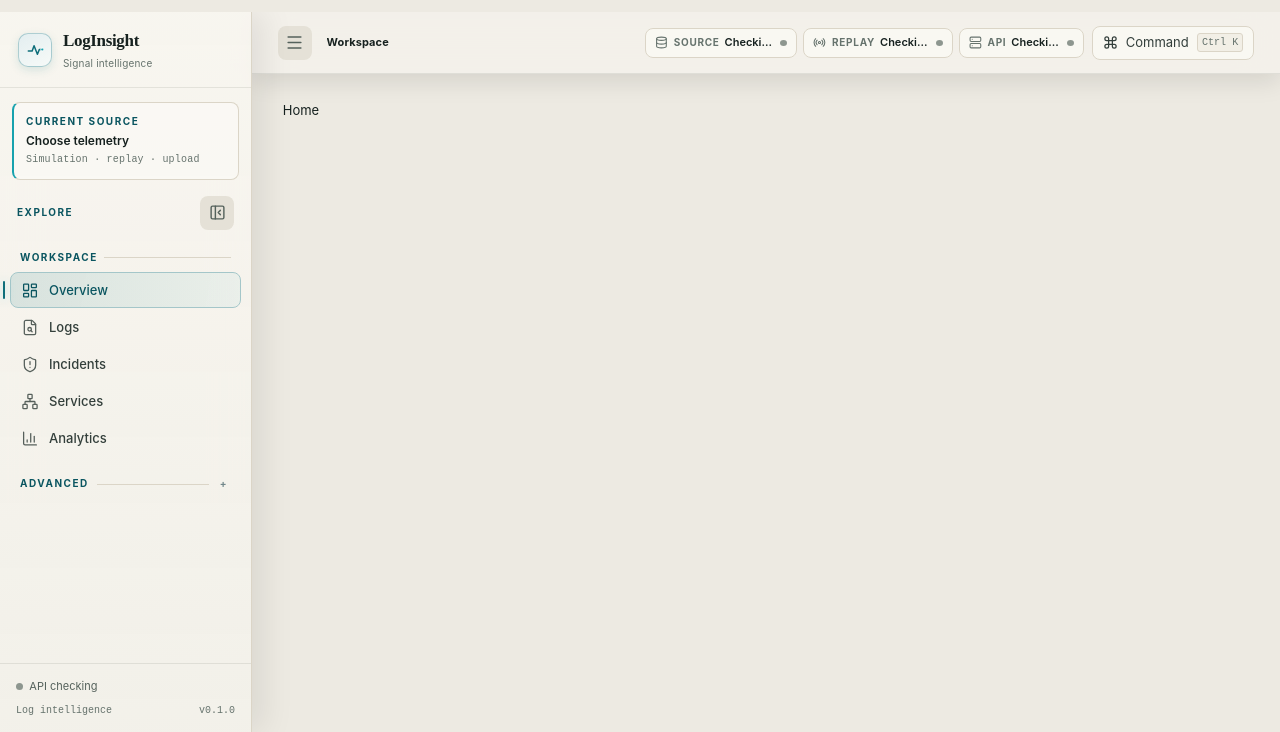
Test: application shell › keeps the primary workflow compact and specialist routes under Advanced
Expected: the link "Overview" is shown, [10,272,241,308]
Expected: the link "Logs" is shown, [21,319,79,336]
Click the button "Advanced +" at (126, 483), box [10,468,241,498]
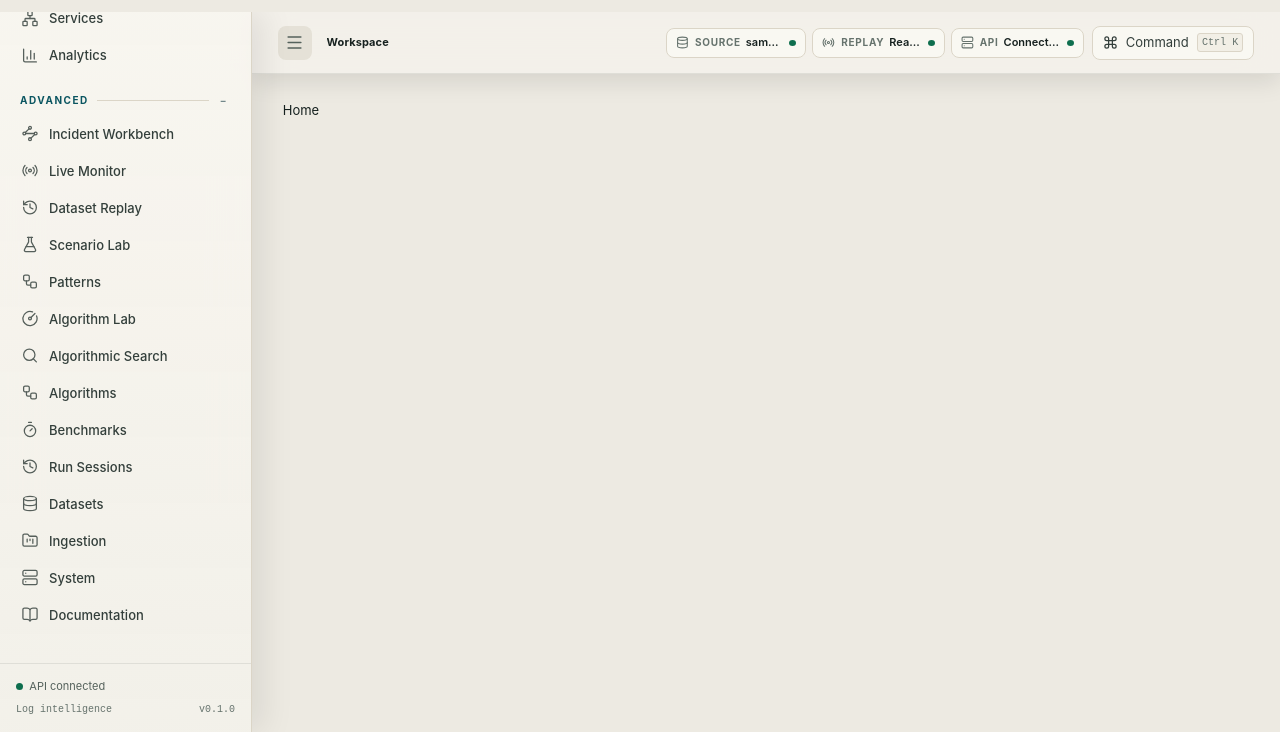
Now the link "Incident Workbench" is shown, box [21,125,174,142]
Now the link "Live Monitor" is shown, box [21,162,126,179]
Now the link "Dataset Replay" is shown, box [21,199,142,216]
